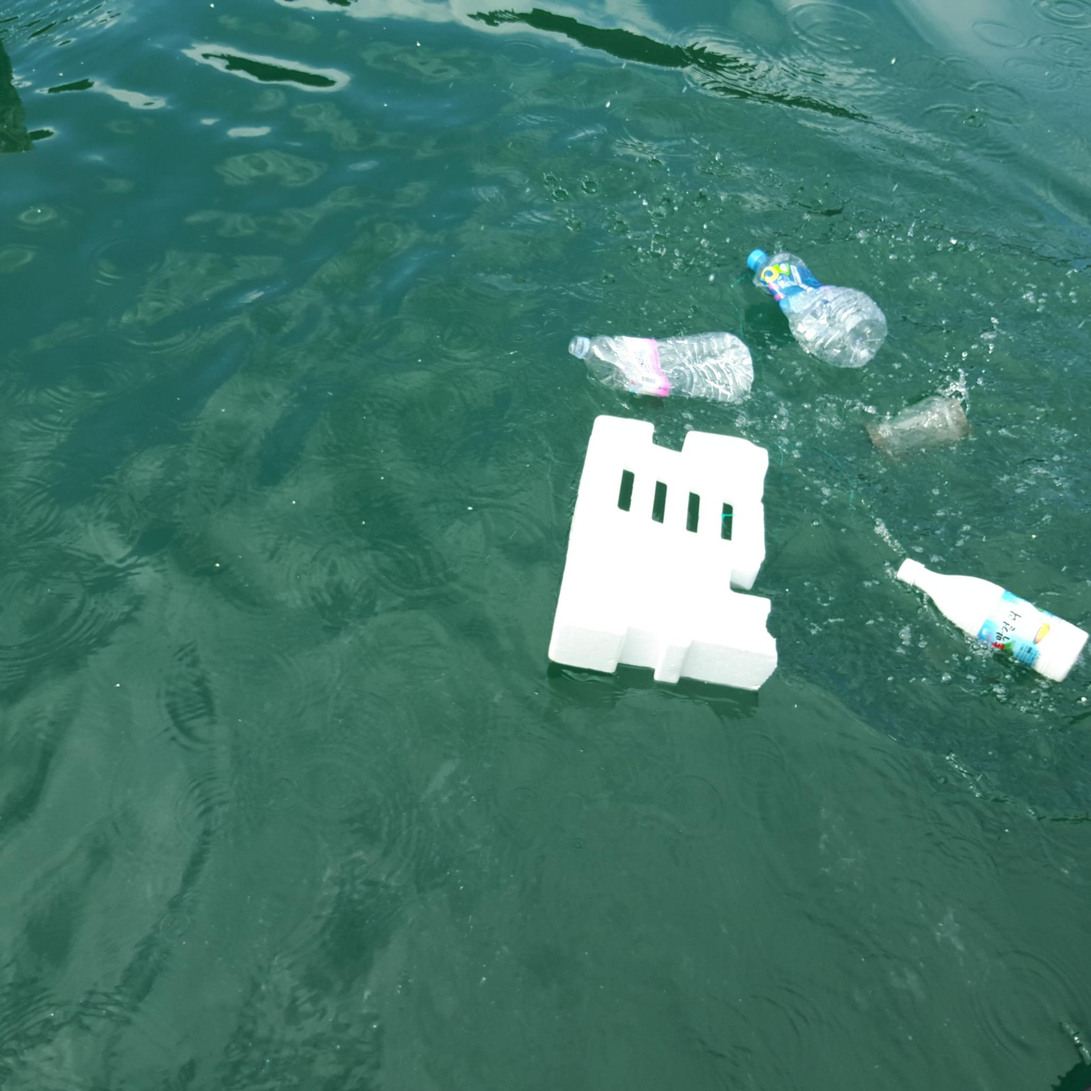sampah_terapung: (548, 415, 778, 691), (895, 558, 1090, 683), (747, 250, 888, 370), (568, 332, 755, 403)
